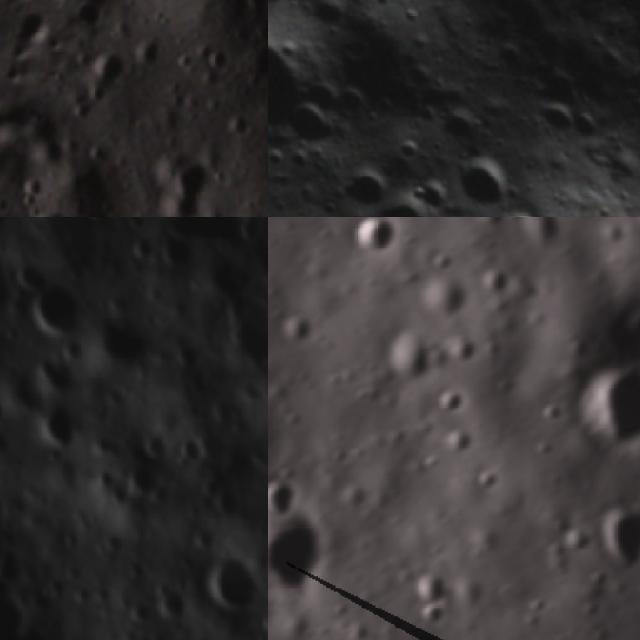crater: (268, 5, 320, 164), (560, 360, 640, 460), (268, 498, 333, 607), (277, 88, 354, 165), (437, 146, 519, 217), (10, 260, 81, 337), (320, 151, 402, 217), (353, 175, 462, 217), (587, 493, 640, 576), (522, 90, 588, 156), (380, 326, 442, 396), (416, 274, 476, 332), (343, 217, 406, 264), (400, 564, 456, 613), (30, 409, 93, 451), (506, 217, 569, 259), (409, 596, 462, 638), (430, 376, 473, 426), (203, 557, 255, 598), (474, 263, 517, 309), (436, 423, 478, 469), (268, 480, 307, 529), (558, 521, 599, 564), (280, 308, 317, 355), (466, 464, 506, 505), (440, 332, 480, 373), (593, 218, 632, 255), (423, 242, 457, 284), (13, 195, 77, 217), (202, 38, 236, 70), (534, 401, 566, 435), (487, 202, 553, 217), (620, 302, 640, 349), (530, 439, 555, 466)
